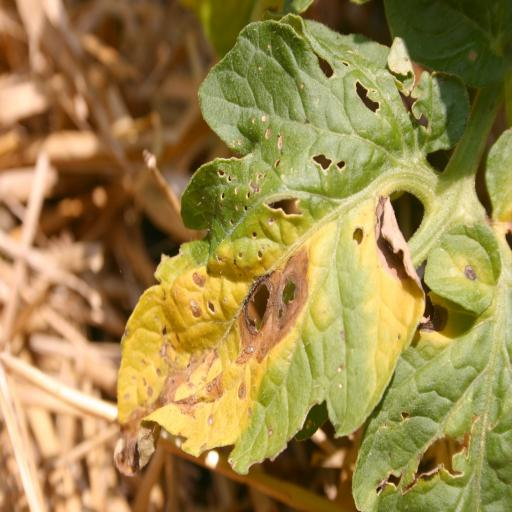Early Blight: (114, 18, 426, 470)
